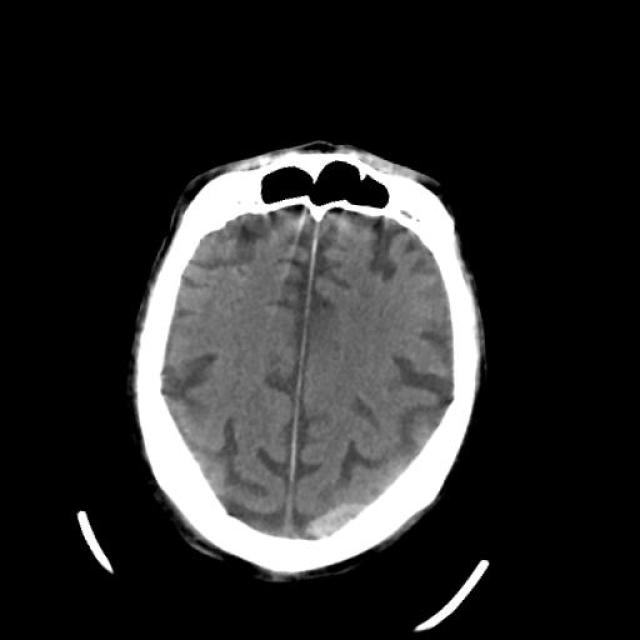Subdural: (296, 497, 376, 559)
